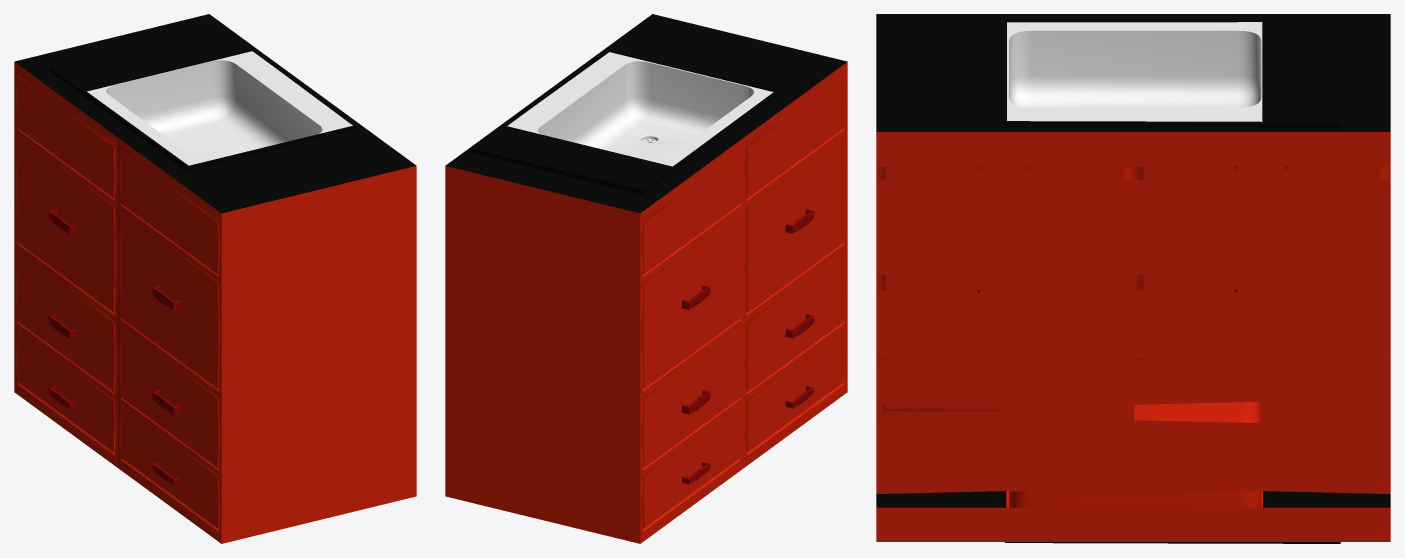
File: evier.fbx
3 renders of one model, left to right at view 1: azimuth 30°, elevation 25°; view 2: azimuth 150°, elevation 25°; view 3: azimuth 270°, elevation 25°, orthographic. The views are drawn at different scales.
Visible parts, largest first — view 1: Box034; view 2: Box034; view 3: Box034.
Boxes of the visible parts, x1,y1,x2,y2 form: Box034: [14, 14, 416, 543]; Box034: [445, 14, 847, 543]; Box034: [876, 14, 1390, 543].
Bounding box in the file's own units: 41.85 × 66.7 × 73.99.
